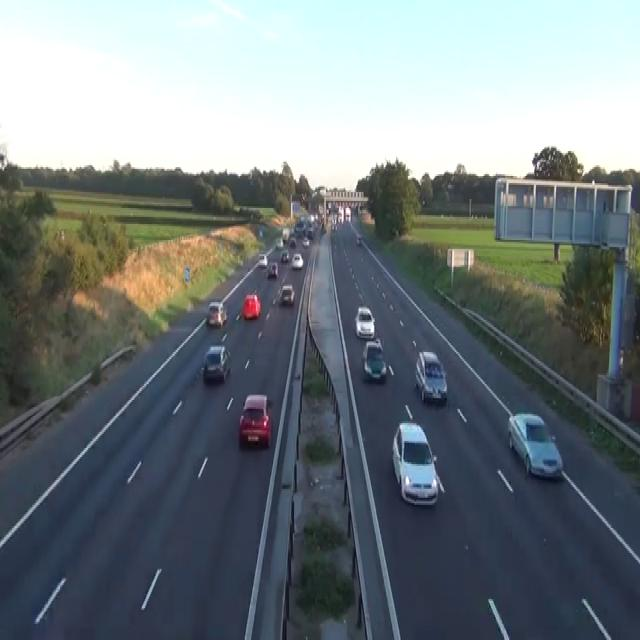Car: (391, 419, 439, 506), (507, 411, 562, 478), (238, 393, 271, 448), (414, 350, 447, 404), (362, 338, 387, 380), (202, 345, 230, 382), (355, 306, 375, 338), (206, 301, 227, 327), (242, 294, 261, 318), (279, 284, 295, 306), (351, 222, 362, 244), (291, 252, 303, 268), (266, 262, 278, 278), (294, 218, 306, 234), (53, 229, 65, 242), (258, 252, 267, 266), (280, 249, 289, 263), (373, 338, 382, 352), (281, 228, 289, 242), (275, 236, 283, 249), (306, 226, 314, 238), (355, 233, 362, 243), (302, 237, 309, 247), (289, 237, 296, 247), (320, 222, 325, 233), (331, 220, 336, 230), (337, 214, 343, 222), (422, 198, 427, 206), (259, 228, 262, 236)
